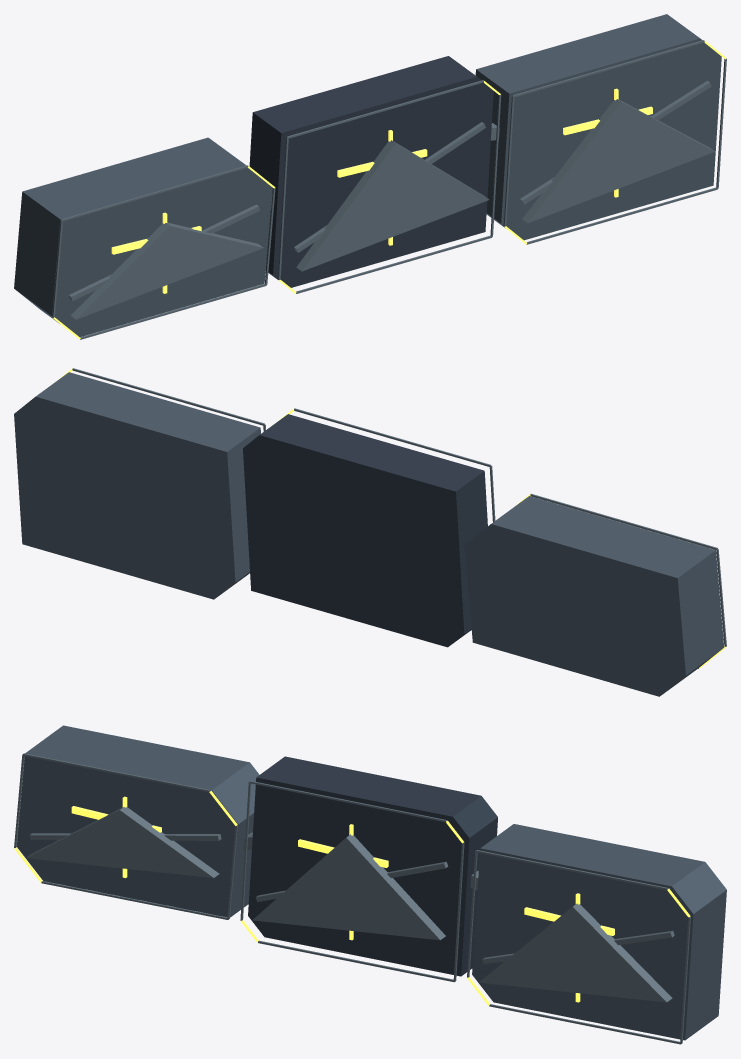
The model's file is altitude_shutter_2.glb.
3 views of the same model, one above another, from view 1: azimuth 30°, elevation 25°; view 2: azimuth 150°, elevation 25°; view 3: azimuth 330°, elevation 25° (orthographic).
Parts seen in each view (by area): view 1: altitude_shutter_2; view 2: altitude_shutter_2; view 3: altitude_shutter_2.
Part boxes in pixels (x1,y1,x2,y2): altitude_shutter_2: (14, 14, 726, 339); altitude_shutter_2: (14, 368, 726, 696); altitude_shutter_2: (14, 725, 726, 1044).
Size of the model in its own units: 81.6 by 20.2 by 9.6.
